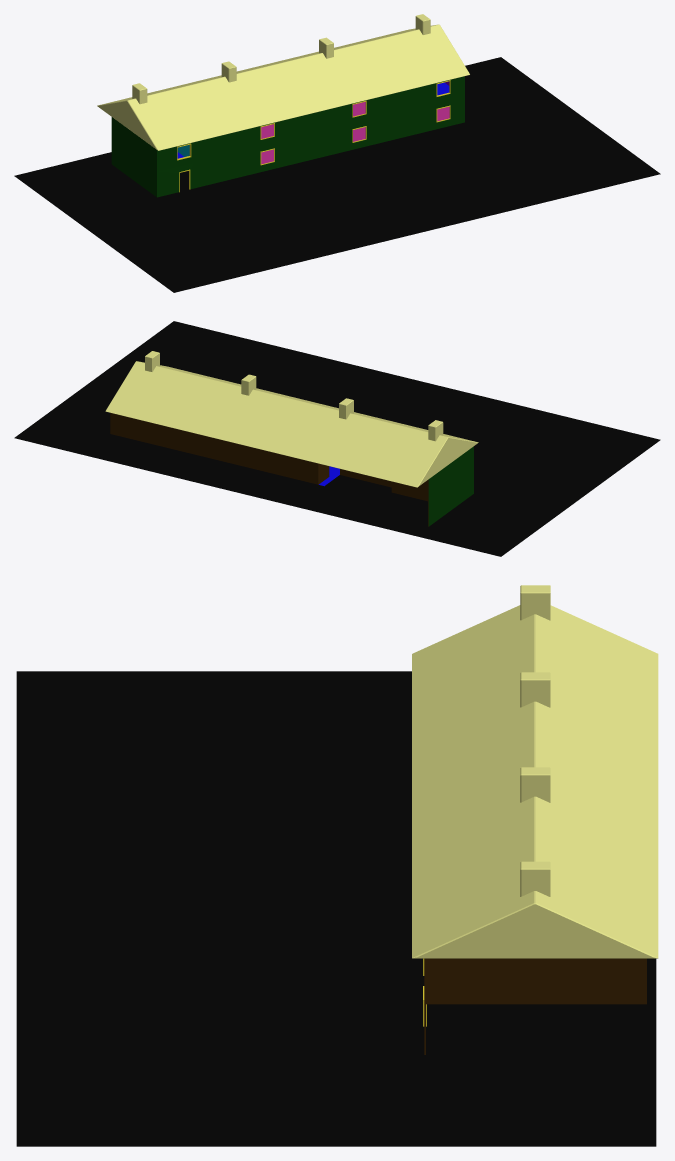
The model's file is test house.fbx.
The picture shows the model from 3 angles, top to bottom: view 1: azimuth 30°, elevation 25°; view 2: azimuth 150°, elevation 25°; view 3: azimuth 270°, elevation 25°; orthographic projection. The views are drawn at different scales.
Parts seen in each view (by area): view 1: grass, roof, walls, glass; view 2: grass, roof, walls; view 3: grass, roof, walls.
Boxes of the visible parts, <box> form: grass: <box>14,57,660,292</box>; roof: <box>97,14,469,150</box>; walls: <box>111,76,464,197</box>; glass: <box>261,102,449,164</box>; grass: <box>14,321,660,556</box>; roof: <box>105,351,478,487</box>; walls: <box>110,413,473,526</box>; grass: <box>16,671,656,1146</box>; roof: <box>412,585,658,958</box>; walls: <box>423,958,646,1054</box>.
Bounding box in the file's own units: 7448 × 1286 × 4250.
